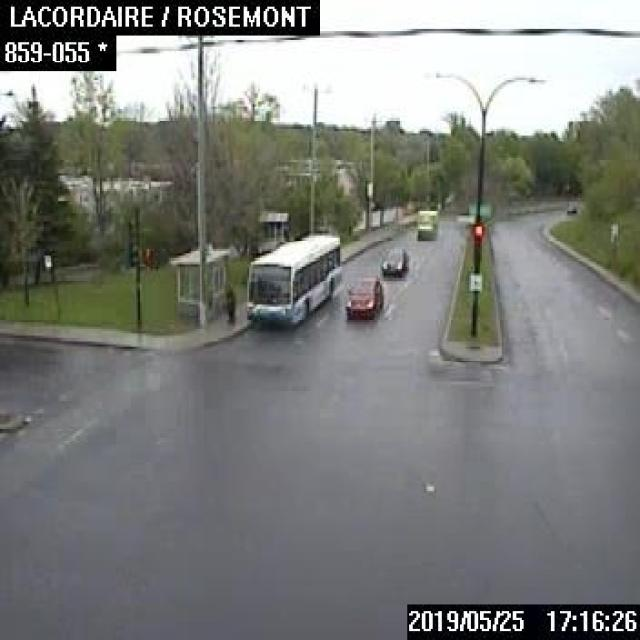bus: (244, 229, 342, 324)
pedestrian: (222, 284, 234, 322)
vehicle: (342, 275, 381, 320), (377, 245, 409, 274), (413, 206, 436, 238), (564, 202, 576, 216)
